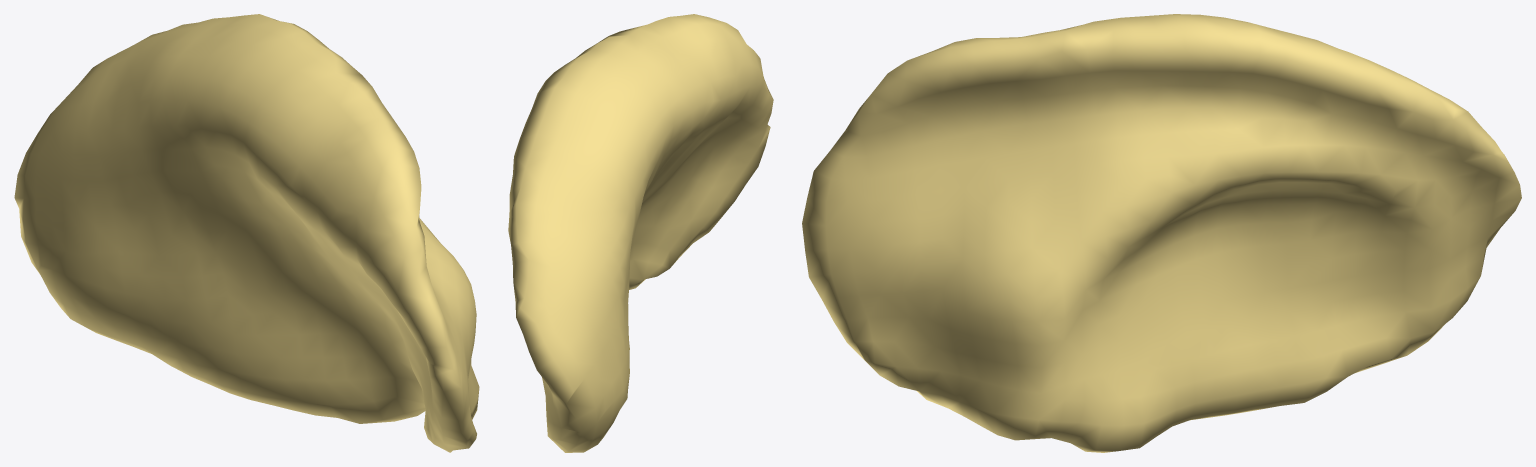
3 renders of one model, left to right at view 1: azimuth 30°, elevation 25°; view 2: azimuth 150°, elevation 25°; view 3: azimuth 270°, elevation 25°, orthographic. The views are drawn at different scales.
Parts seen in each view (by area): view 1: ZA_e8405d2b5a944596; view 2: ZA_e8405d2b5a944596; view 3: ZA_e8405d2b5a944596.
Boxes of the visible parts, bbox=[...] form: ZA_e8405d2b5a944596: bbox=[14, 14, 479, 452]; ZA_e8405d2b5a944596: bbox=[508, 14, 773, 452]; ZA_e8405d2b5a944596: bbox=[802, 14, 1521, 452].
Bounding box in the file's own units: 0.0222 × 0.0321 × 0.0523.
